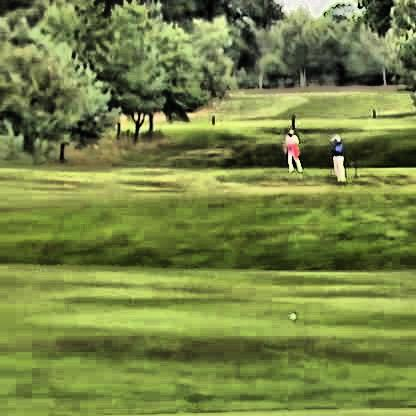golfball: (285, 309, 292, 319)
